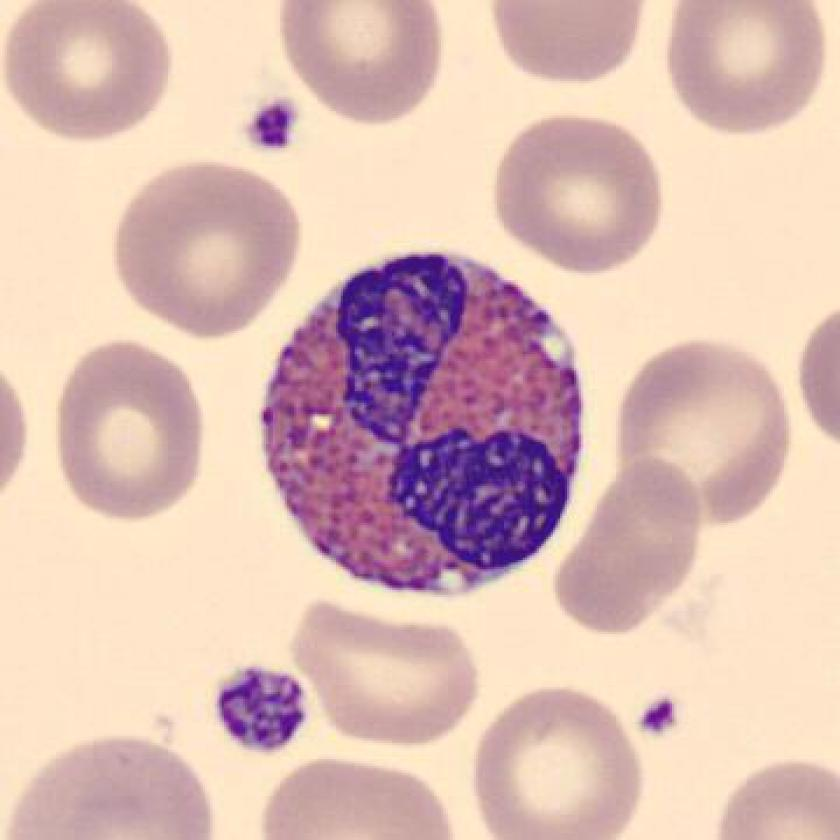eosinophil: (253, 237, 596, 605)
